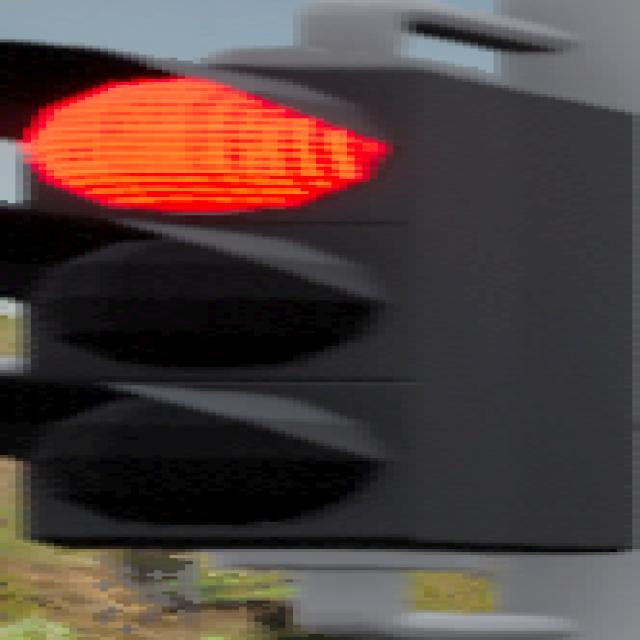red_light: (0, 39, 633, 555)
